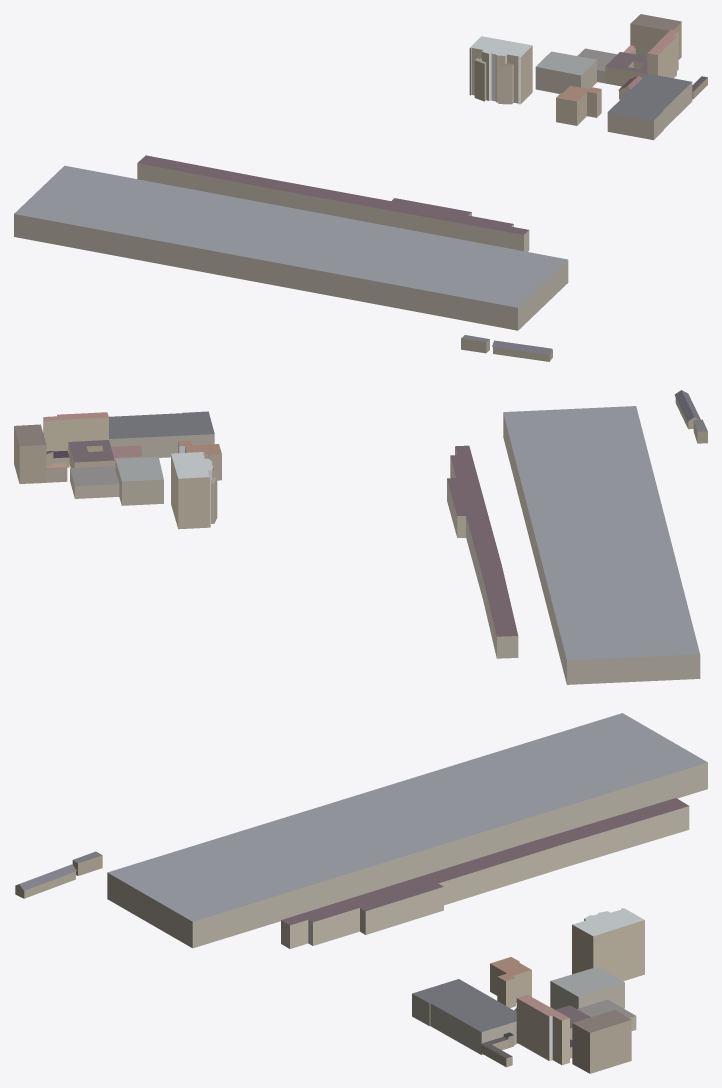
3 views of the same model, one above another, from view 1: azimuth 30°, elevation 25°; view 2: azimuth 150°, elevation 25°; view 3: azimuth 270°, elevation 25° (orthographic). The views are drawn at different scales.
Visible parts, largest first — view 1: tuile; view 2: tuile; view 3: tuile.
Part boxes in pixels (x1,y1,x2,y2): tuile: (14,14,707,361); tuile: (14,390,707,684); tuile: (15,713,707,1073).
Bounding box in the file's own units: 302 × 34.2 × 240.
